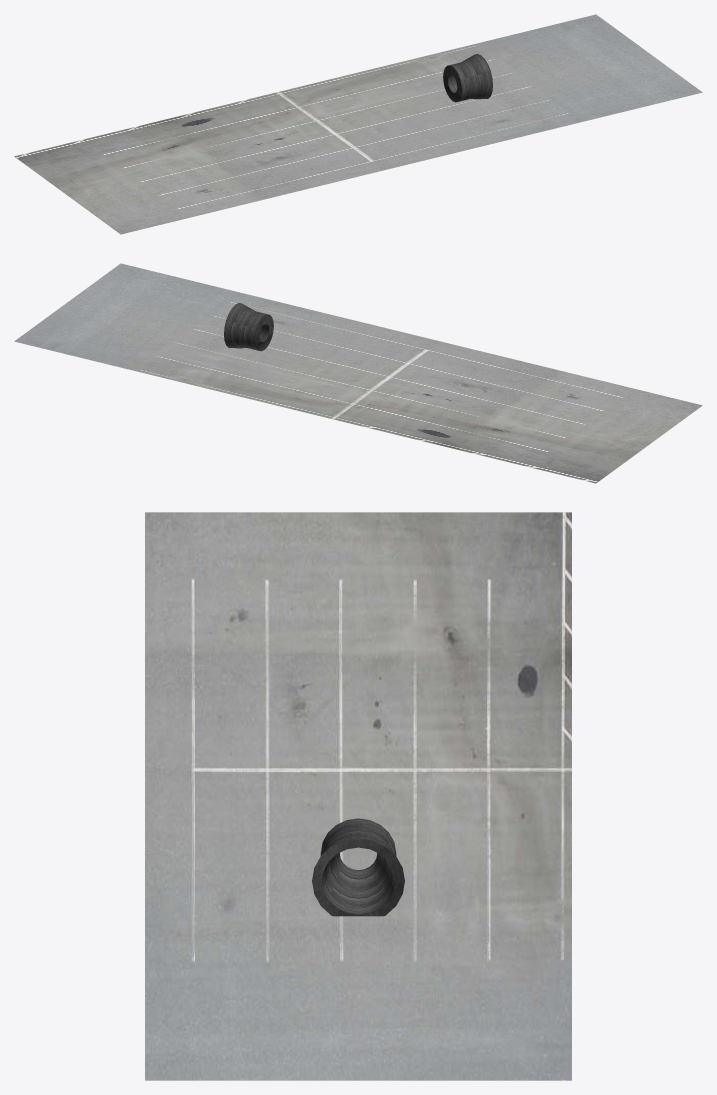
The model's file is SpaceLv1.fbx.
3 views of the same model, one above another, from view 1: azimuth 30°, elevation 25°; view 2: azimuth 150°, elevation 25°; view 3: azimuth 270°, elevation 25° (orthographic). The views are drawn at different scales.
Parts seen in each view (by area): view 1: polySurface31; view 2: polySurface31; view 3: polySurface31.
Part boxes in pixels (box(x1,y1,x2,y2)): polySurface31: box(14, 14, 702, 234); polySurface31: box(14, 263, 702, 483); polySurface31: box(145, 512, 571, 1080).
Size of the model in its own units: 275 by 19.2 by 87.38.
2 materials, 2 textured.
